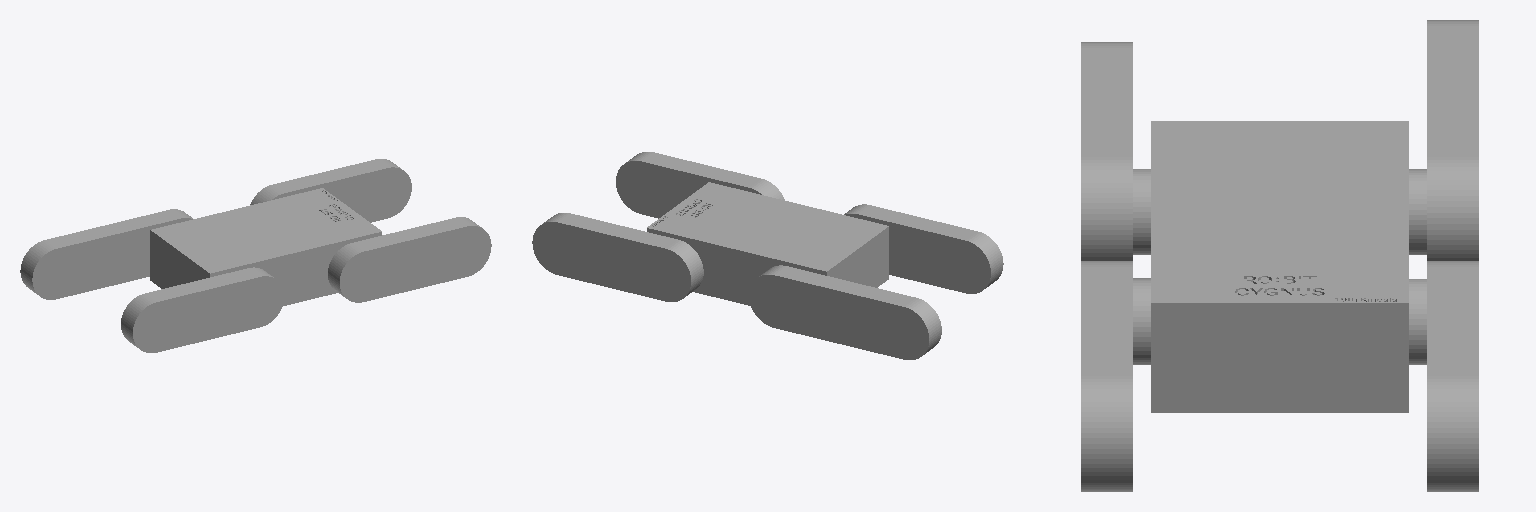
The robot description file, URDF, robot "cygnus":
<?xml version="1.0" ?>
<!-- =================================================================================== -->
<!-- |    This document was autogenerated by xacro from cygnus.urdf.xacro              | -->
<!-- |    EDITING THIS FILE BY HAND IS NOT RECOMMENDED                                 | -->
<!-- =================================================================================== -->
<robot name="cygnus">
  <material name="silver">
    <color rgba="0.700 0.700 0.700 1.000"/>
  </material>
  <transmission name="Joint_Flipper_Front_Right_tran">
    <type>transmission_interface/SimpleTransmission</type>
    <joint name="Joint_Flipper_Front_Right">
      <hardwareInterface>hardware_interface/EffortJointInterface</hardwareInterface>
    </joint>
    <actuator name="Joint_Flipper_Front_Right_actr">
      <hardwareInterface>hardware_interface/EffortJointInterface</hardwareInterface>
      <mechanicalReduction>1</mechanicalReduction>
    </actuator>
  </transmission>
  <transmission name="Joint_Flipper_Front_Left_tran">
    <type>transmission_interface/SimpleTransmission</type>
    <joint name="Joint_Flipper_Front_Left">
      <hardwareInterface>hardware_interface/EffortJointInterface</hardwareInterface>
    </joint>
    <actuator name="Joint_Flipper_Front_Left_actr">
      <hardwareInterface>hardware_interface/EffortJointInterface</hardwareInterface>
      <mechanicalReduction>1</mechanicalReduction>
    </actuator>
  </transmission>
  <transmission name="Joint_Flipper_Back_Right_tran">
    <type>transmission_interface/SimpleTransmission</type>
    <joint name="Joint_Flipper_Back_Right">
      <hardwareInterface>hardware_interface/EffortJointInterface</hardwareInterface>
    </joint>
    <actuator name="Joint_Flipper_Back_Right_actr">
      <hardwareInterface>hardware_interface/EffortJointInterface</hardwareInterface>
      <mechanicalReduction>1</mechanicalReduction>
    </actuator>
  </transmission>
  <transmission name="Joint_Flipper_Back_Left_tran">
    <type>transmission_interface/SimpleTransmission</type>
    <joint name="Joint_Flipper_Back_Left">
      <hardwareInterface>hardware_interface/EffortJointInterface</hardwareInterface>
    </joint>
    <actuator name="Joint_Flipper_Back_Left_actr">
      <hardwareInterface>hardware_interface/EffortJointInterface</hardwareInterface>
      <mechanicalReduction>1</mechanicalReduction>
    </actuator>
  </transmission>
  <gazebo>
    <plugin filename="libgazebo_ros_control.so" name="control"/>
  </gazebo>
  <gazebo reference="base_link">
    <material>Gazebo/Silver</material>
    <mu1>0.2</mu1>
    <mu2>0.2</mu2>
    <selfCollide>true</selfCollide>
    <gravity>true</gravity>
  </gazebo>
  <gazebo reference="flipper_front_right_1">
    <material>Gazebo/Silver</material>
    <mu1>0.2</mu1>
    <mu2>0.2</mu2>
    <selfCollide>true</selfCollide>
  </gazebo>
  <gazebo reference="flipper_front_left_1">
    <material>Gazebo/Silver</material>
    <mu1>0.2</mu1>
    <mu2>0.2</mu2>
    <selfCollide>true</selfCollide>
  </gazebo>
  <gazebo reference="flipper_back_right_1">
    <material>Gazebo/Silver</material>
    <mu1>0.2</mu1>
    <mu2>0.2</mu2>
    <selfCollide>true</selfCollide>
  </gazebo>
  <gazebo reference="flipper_back_left_1">
    <material>Gazebo/Silver</material>
    <mu1>0.2</mu1>
    <mu2>0.2</mu2>
    <selfCollide>true</selfCollide>
  </gazebo>
  <link name="base_link">
    <inertial>
      <origin rpy="0 0 0" xyz="-3.381256321980912e-05 -2.4978577981486274e-06 0.034989012896369985"/>
      <mass value="7.297199838788111"/>
      <inertia ixx="0.017571" ixy="2e-06" ixz="8e-06" iyy="0.041038" iyz="1e-06" izz="0.052761"/>
    </inertial>
    <visual>
      <origin rpy="0 0 0" xyz="0 0 0"/>
      <geometry>
        <mesh filename="package://cygnus_description/meshes/base_link.stl" scale="0.001 0.001 0.001"/>
      </geometry>
      <material name="silver"/>
    </visual>
    <collision>
      <origin rpy="0 0 0" xyz="0 0 0"/>
      <geometry>
        <mesh filename="package://cygnus_description/meshes/base_link.stl" scale="0.001 0.001 0.001"/>
      </geometry>
    </collision>
  </link>
  <link name="flipper_front_right_1">
    <inertial>
      <origin rpy="0 0 0" xyz="0.075 -0.015 0.0"/>
      <mass value="1.1622245310524473"/>
      <inertia ixx="0.00053" ixy="0.0" ixz="0.0" iyy="0.004581" iyz="-0.0" izz="0.004225"/>
    </inertial>
    <visual>
      <origin rpy="0 0 0" xyz="-0.075 0.085 -0.035"/>
      <geometry>
        <mesh filename="package://cygnus_description/meshes/flipper_front_right_1.stl" scale="0.001 0.001 0.001"/>
      </geometry>
      <material name="silver"/>
    </visual>
    <collision>
      <origin rpy="0 0 0" xyz="-0.075 0.085 -0.035"/>
      <geometry>
        <mesh filename="package://cygnus_description/meshes/flipper_front_right_1.stl" scale="0.001 0.001 0.001"/>
      </geometry>
    </collision>
  </link>
  <link name="flipper_front_left_1">
    <inertial>
      <origin rpy="0 0 0" xyz="0.07500000000000002 0.015 -6.938893903907228e-18"/>
      <mass value="1.1622245310524475"/>
      <inertia ixx="0.00053" ixy="0.0" ixz="0.0" iyy="0.004581" iyz="0.0" izz="0.004225"/>
    </inertial>
    <visual>
      <origin rpy="0 0 0" xyz="-0.075 -0.085 -0.035"/>
      <geometry>
        <mesh filename="package://cygnus_description/meshes/flipper_front_left_1.stl" scale="0.001 0.001 0.001"/>
      </geometry>
      <material name="silver"/>
    </visual>
    <collision>
      <origin rpy="0 0 0" xyz="-0.075 -0.085 -0.035"/>
      <geometry>
        <mesh filename="package://cygnus_description/meshes/flipper_front_left_1.stl" scale="0.001 0.001 0.001"/>
      </geometry>
    </collision>
  </link>
  <link name="flipper_back_right_1">
    <inertial>
      <origin rpy="0 0 0" xyz="-0.07500000000000005 -0.015 -6.938893903907228e-18"/>
      <mass value="1.1622245310524477"/>
      <inertia ixx="0.00053" ixy="0.0" ixz="-0.0" iyy="0.004581" iyz="0.0" izz="0.004225"/>
    </inertial>
    <visual>
      <origin rpy="0 0 0" xyz="0.075 0.085 -0.035"/>
      <geometry>
        <mesh filename="package://cygnus_description/meshes/flipper_back_right_1.stl" scale="0.001 0.001 0.001"/>
      </geometry>
      <material name="silver"/>
    </visual>
    <collision>
      <origin rpy="0 0 0" xyz="0.075 0.085 -0.035"/>
      <geometry>
        <mesh filename="package://cygnus_description/meshes/flipper_back_right_1.stl" scale="0.001 0.001 0.001"/>
      </geometry>
    </collision>
  </link>
  <link name="flipper_back_left_1">
    <inertial>
      <origin rpy="0 0 0" xyz="-0.09000000000000001 0.015 0.0"/>
      <mass value="1.3323245310524472"/>
      <inertia ixx="0.000612" ixy="0.0" ixz="0.0" iyy="0.006722" iyz="0.0" izz="0.006309"/>
    </inertial>
    <visual>
      <origin rpy="0 0 0" xyz="0.075 -0.085 -0.035"/>
      <geometry>
        <mesh filename="package://cygnus_description/meshes/flipper_back_left_1.stl" scale="0.001 0.001 0.001"/>
      </geometry>
      <material name="silver"/>
    </visual>
    <collision>
      <origin rpy="0 0 0" xyz="0.075 -0.085 -0.035"/>
      <geometry>
        <mesh filename="package://cygnus_description/meshes/flipper_back_left_1.stl" scale="0.001 0.001 0.001"/>
      </geometry>
    </collision>
  </link>
  <joint name="Joint_Flipper_Front_Right" type="continuous">
    <origin rpy="0 0 0" xyz="0.075 -0.085 0.035"/>
    <parent link="base_link"/>
    <child link="flipper_front_right_1"/>
    <axis xyz="0.0 -1.0 0.0"/>
  </joint>
  <joint name="Joint_Flipper_Front_Left" type="continuous">
    <origin rpy="0 0 0" xyz="0.075 0.085 0.035"/>
    <parent link="base_link"/>
    <child link="flipper_front_left_1"/>
    <axis xyz="0.0 1.0 0.0"/>
  </joint>
  <joint name="Joint_Flipper_Back_Right" type="continuous">
    <origin rpy="0 0 0" xyz="-0.075 -0.085 0.035"/>
    <parent link="base_link"/>
    <child link="flipper_back_right_1"/>
    <axis xyz="0.0 -1.0 0.0"/>
  </joint>
  <joint name="Joint_Flipper_Back_Left" type="continuous">
    <origin rpy="0 0 0" xyz="-0.075 0.085 0.035"/>
    <parent link="base_link"/>
    <child link="flipper_back_left_1"/>
    <axis xyz="0.0 1.0 0.0"/>
  </joint>
  <ros2_control name="FakeSystem" type="system">
    <hardware>
      <!-- By default, set up controllers for simulation. This won't work on real hardware -->
      <!--plugin>mock_components/GenericSystem</plugin-->
      <plugin>topic_based_ros2_control/TopicBasedSystem</plugin>
      <param name="joint_commands_topic">/isaac_joint_commands</param>
      <param name="joint_states_topic">/isaac_joint_states</param>
    </hardware>
    <joint name="Joint_Flipper_Back_Left">
      <command_interface name="position"/>
      <state_interface name="position">
        <param name="initial_value">0</param>
      </state_interface>
      <state_interface name="velocity"/>
    </joint>
    <joint name="Joint_Flipper_Back_Right">
      <command_interface name="position"/>
      <state_interface name="position">
        <param name="initial_value">0</param>
      </state_interface>
      <state_interface name="velocity"/>
    </joint>
    <joint name="Joint_Flipper_Front_Left">
      <command_interface name="position"/>
      <state_interface name="position">
        <param name="initial_value">0</param>
      </state_interface>
      <state_interface name="velocity"/>
    </joint>
    <joint name="Joint_Flipper_Front_Right">
      <command_interface name="position"/>
      <state_interface name="position">
        <param name="initial_value">0</param>
      </state_interface>
      <state_interface name="velocity"/>
    </joint>
  </ros2_control>
</robot>

--- Render facts (derived) ---
3 views of the same robot in one strip: view 1: azimuth 30°, elevation 25°; view 2: azimuth 150°, elevation 25°; view 3: azimuth 270°, elevation 25° (orthographic).
Robot: cygnus — 5 links, 4 joints (4 continuous); root link base_link; default pose: all joints at 0.
Visible links, largest first — view 1: base_link, flipper_front_right_1, flipper_back_right_1, flipper_back_left_1, flipper_front_left_1; view 2: base_link, flipper_back_left_1, flipper_front_left_1, flipper_back_right_1, flipper_front_right_1; view 3: base_link, flipper_back_left_1, flipper_front_right_1, flipper_front_left_1, flipper_back_right_1.
Boxes of the visible links, <box> form: base_link: <box>150,188,381,305</box>; flipper_front_right_1: <box>328,217,491,302</box>; flipper_back_right_1: <box>121,267,284,352</box>; flipper_back_left_1: <box>20,209,192,299</box>; flipper_front_left_1: <box>250,159,411,222</box>; base_link: <box>647,182,888,305</box>; flipper_back_left_1: <box>749,265,941,359</box>; flipper_front_left_1: <box>532,213,703,301</box>; flipper_back_right_1: <box>844,204,1003,293</box>; flipper_front_right_1: <box>616,152,784,218</box>; base_link: <box>1133,121,1426,412</box>; flipper_back_left_1: <box>1427,20,1478,260</box>; flipper_front_right_1: <box>1081,261,1132,491</box>; flipper_front_left_1: <box>1427,261,1478,491</box>; flipper_back_right_1: <box>1081,42,1132,260</box>.
Size in the robot's own frame: 0.5499 by 0.23 by 0.07 metres.
Meshes: 5 distinct files referenced, 5 mesh visuals loaded (5 binary STL).